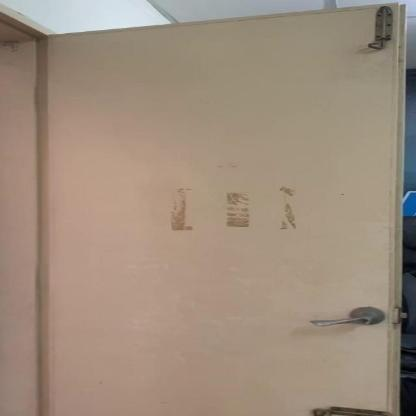door: (35, 1, 406, 416)
